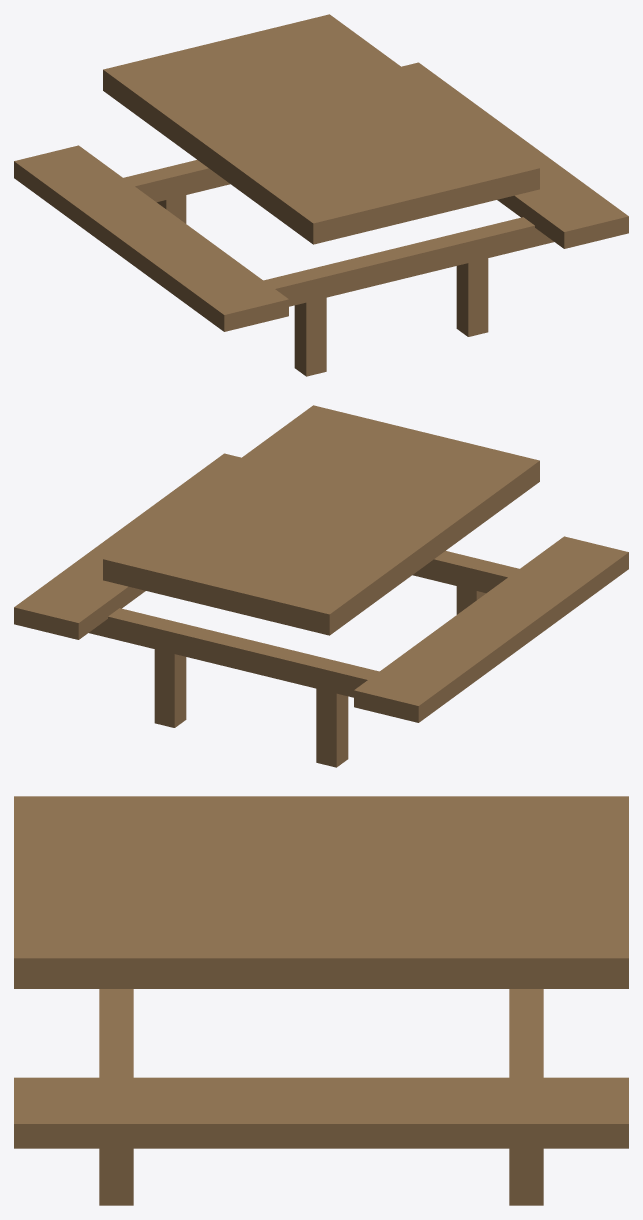
File: picnic-table.glb
3 renders of one model, top to bottom at view 1: azimuth 30°, elevation 25°; view 2: azimuth 150°, elevation 25°; view 3: azimuth 270°, elevation 25°, orthographic. The views are drawn at different scales.
Parts seen in each view (by area): view 1: park-picnic-table; view 2: park-picnic-table; view 3: park-picnic-table.
Part boxes in pixels (x1,y1,x2,y2): park-picnic-table: (14, 14, 628, 376); park-picnic-table: (14, 405, 628, 767); park-picnic-table: (14, 796, 628, 1205).
Bounding box in the file's own units: 1 × 0.425 × 0.9.
